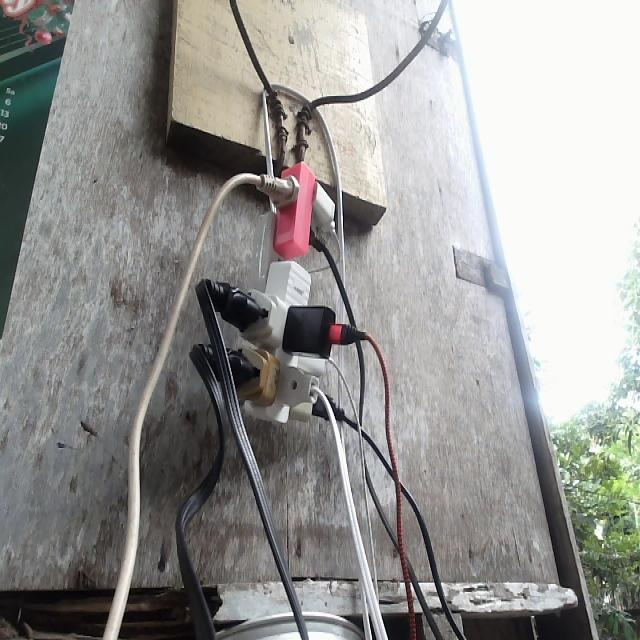-: (231, 160, 351, 431)
